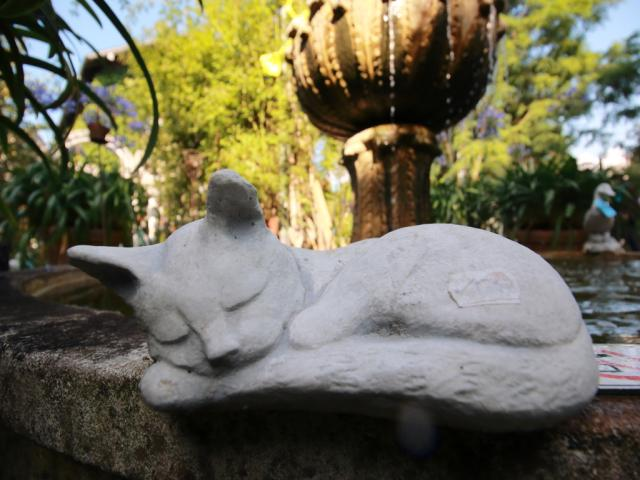Cat: (68, 168, 600, 422)
